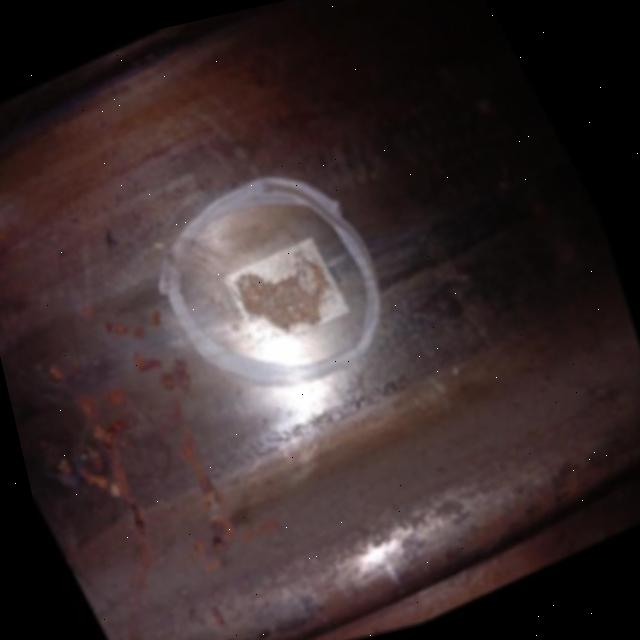Peeling: (225, 233, 361, 357)
